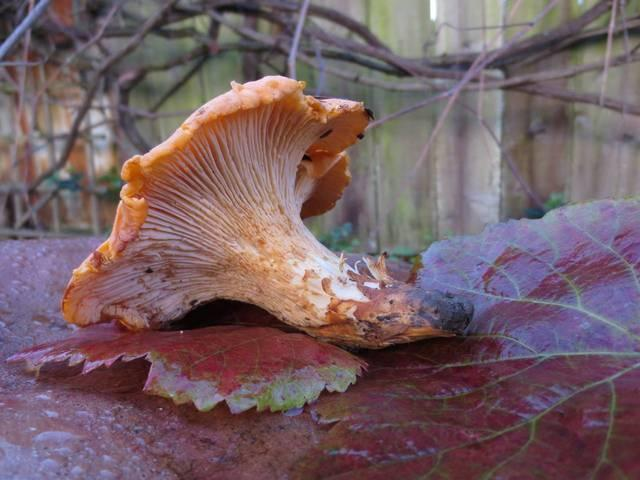Edible Mushroom: (60, 73, 474, 350)
